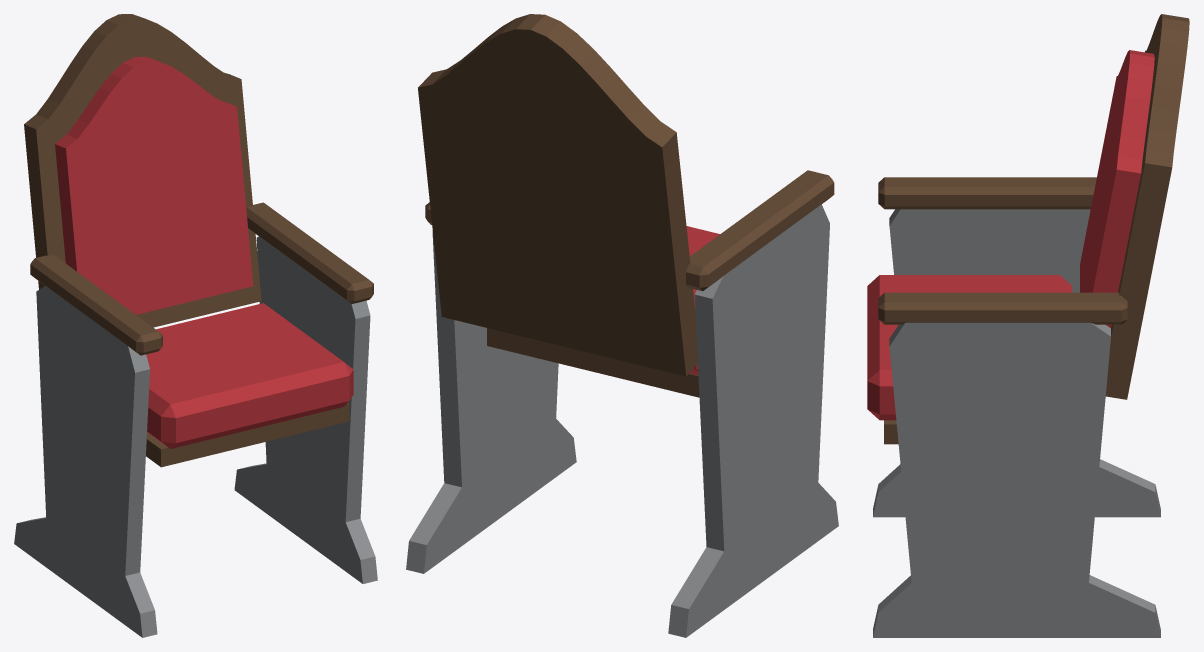
Rendered from seat.glb.
3 renders of one model, left to right at view 1: azimuth 30°, elevation 25°; view 2: azimuth 150°, elevation 25°; view 3: azimuth 270°, elevation 25°, orthographic. The views are drawn at different scales.
Visible parts, largest first — view 1: velvet__seat__solid, steel__seat__solid, dark_wood__seat__solid; view 2: dark_wood__seat__solid, steel__seat__solid, velvet__seat__solid; view 3: steel__seat__solid, dark_wood__seat__solid, velvet__seat__solid.
Part boxes in pixels (<box>): velvet__seat__solid: <box>55,57,353,448</box>; steel__seat__solid: <box>14,236,377,637</box>; dark_wood__seat__solid: <box>24,14,373,467</box>; dark_wood__seat__solid: <box>418,14,834,397</box>; steel__seat__solid: <box>406,204,838,637</box>; velvet__seat__solid: <box>686,226,719,375</box>; steel__seat__solid: <box>873,209,1160,637</box>; dark_wood__seat__solid: <box>878,14,1189,444</box>; velvet__seat__solid: <box>867,50,1154,420</box>.
Size of the model in its own units: 0.556 by 1.11 by 0.5818.
